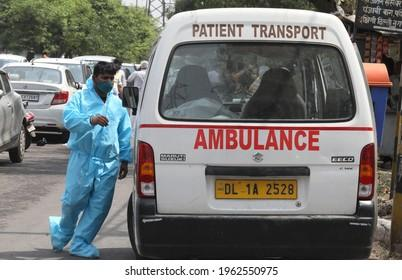ER: (131, 8, 377, 258)
